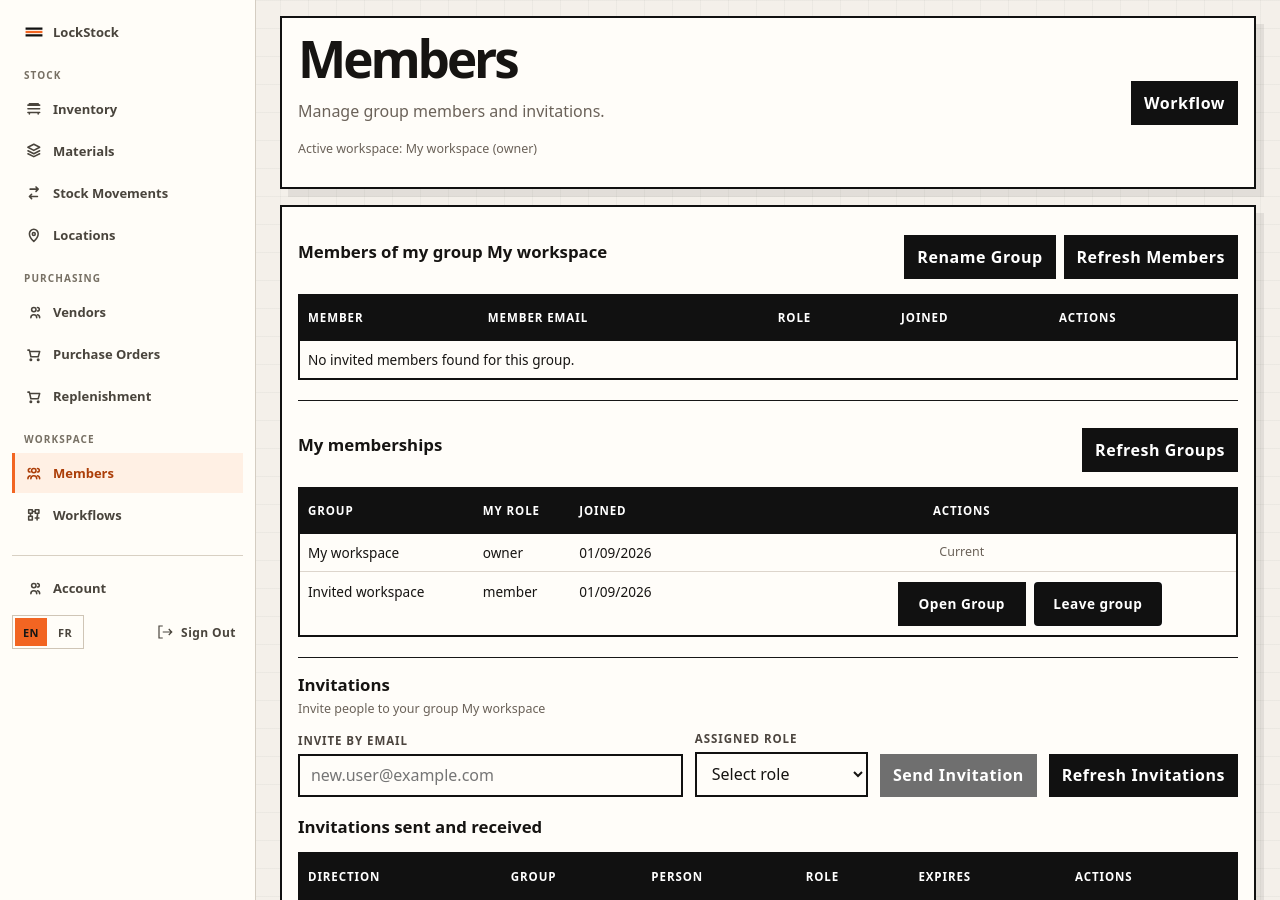
Scenario: keeps Cancel and Escape available without the redundant Close button
Click the button "Leave group": (1098, 604) left=1034, top=582, right=1162, bottom=626
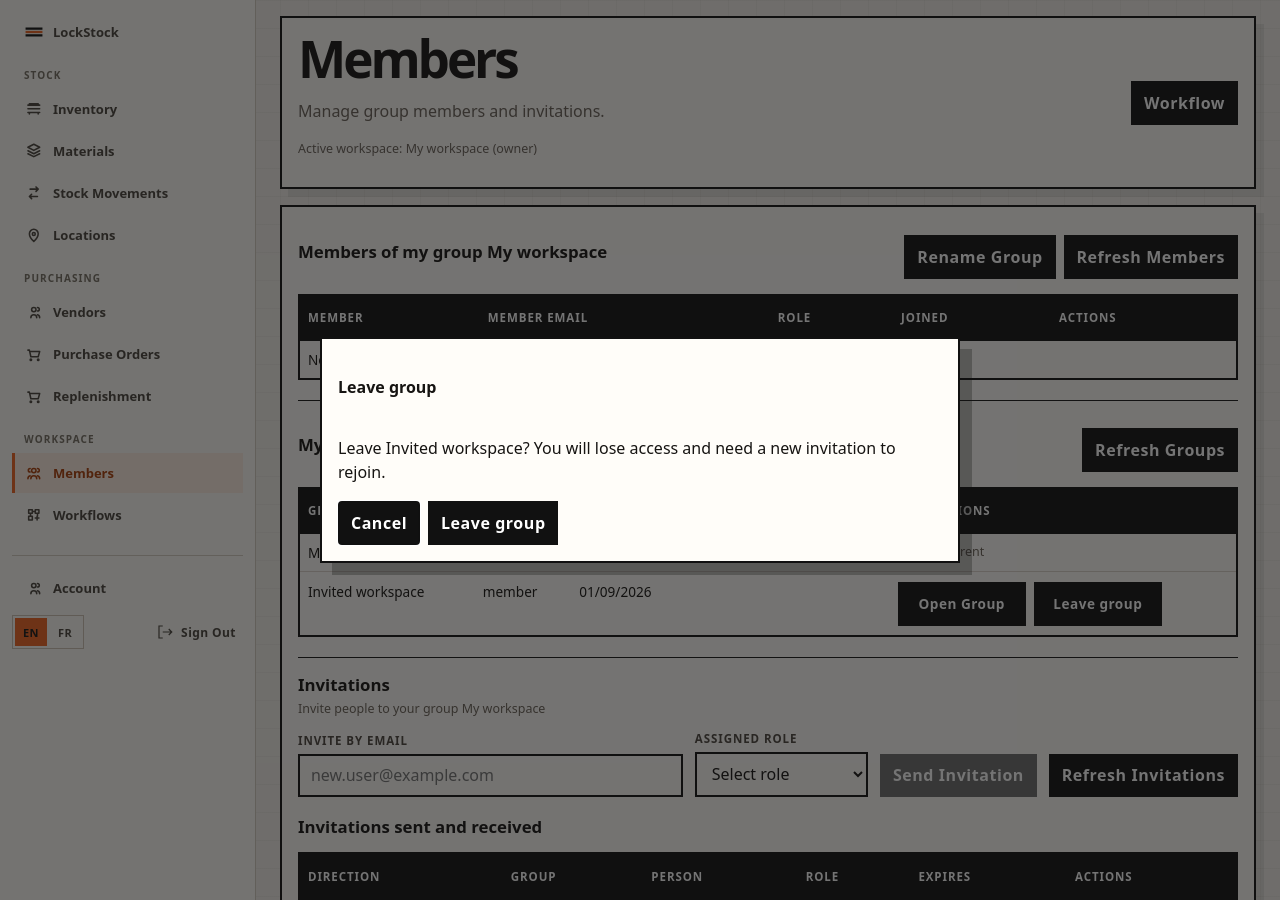
Click the button "Cancel": (379, 523) left=338, top=501, right=420, bottom=545
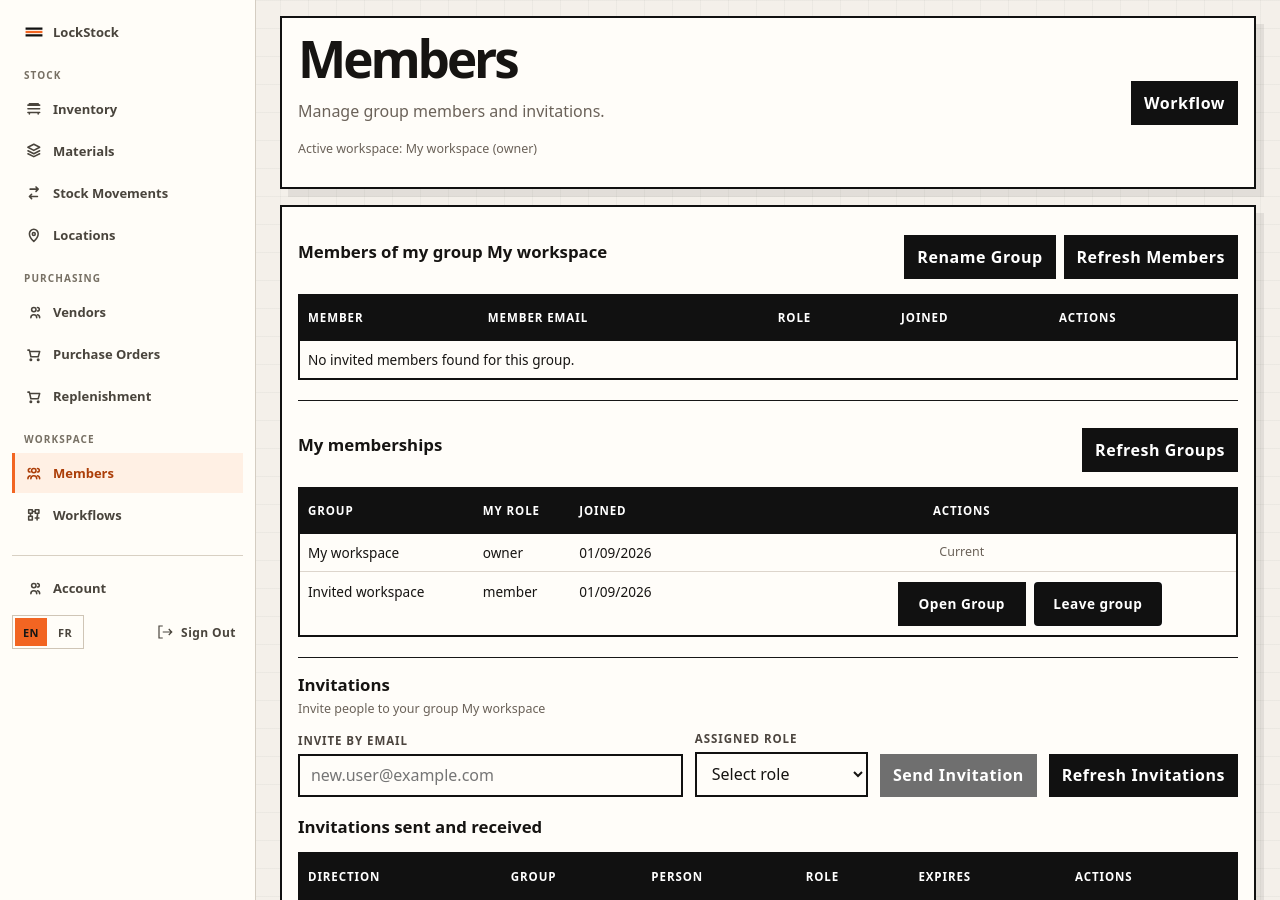
Check: the dialog is gone
Click the button "Leave group": (1098, 604) left=1034, top=582, right=1162, bottom=626
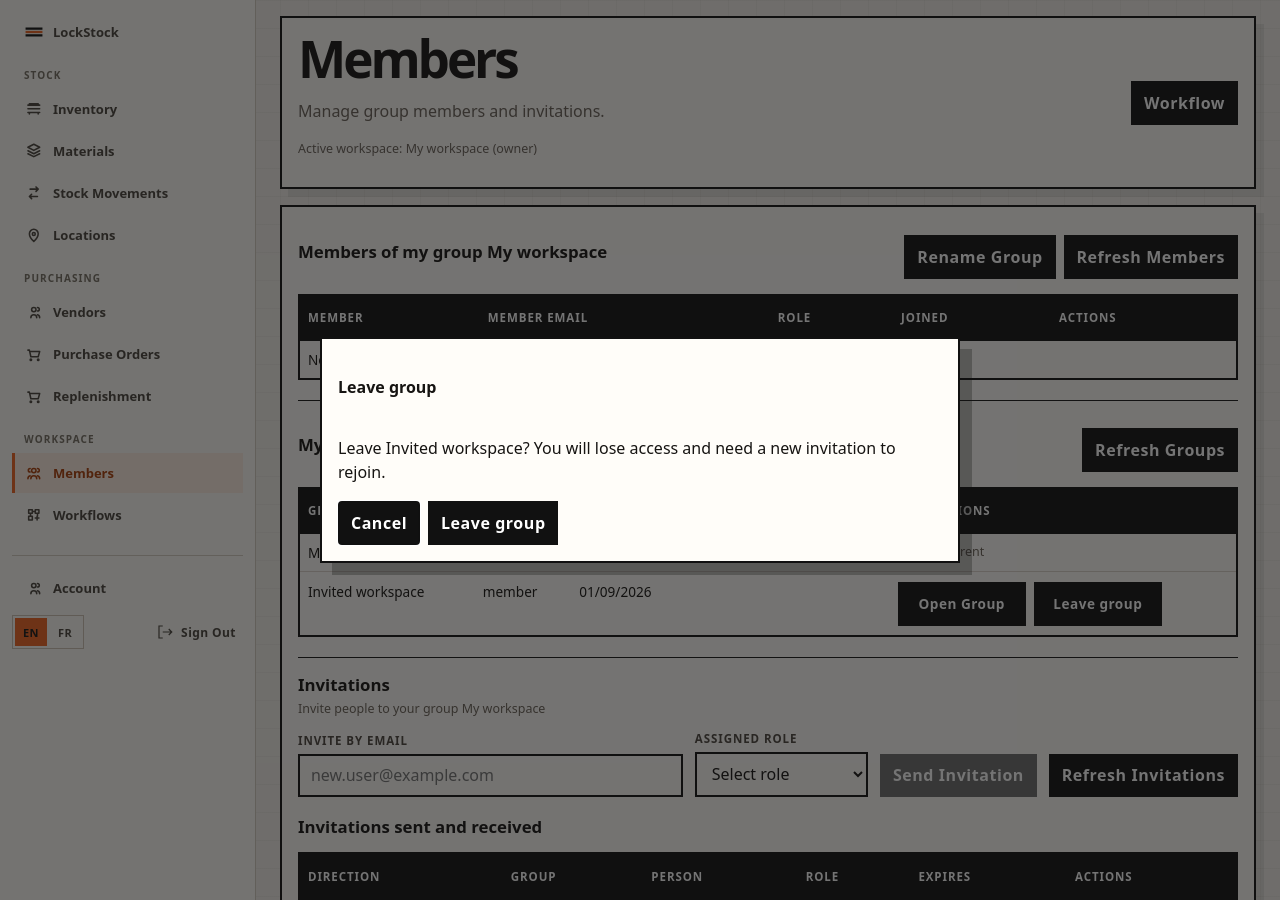
Press Escape in the dialog
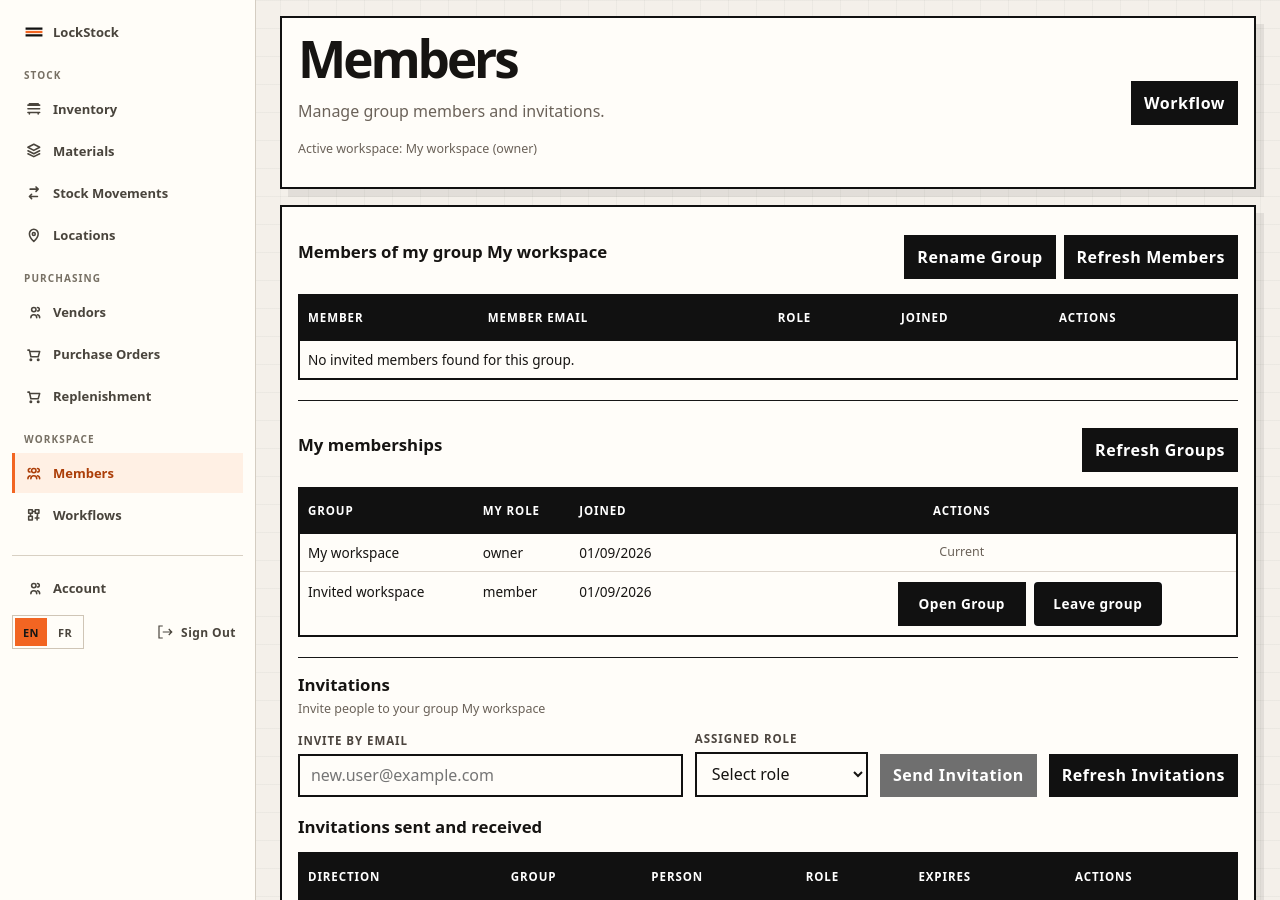
Check: the dialog is gone
